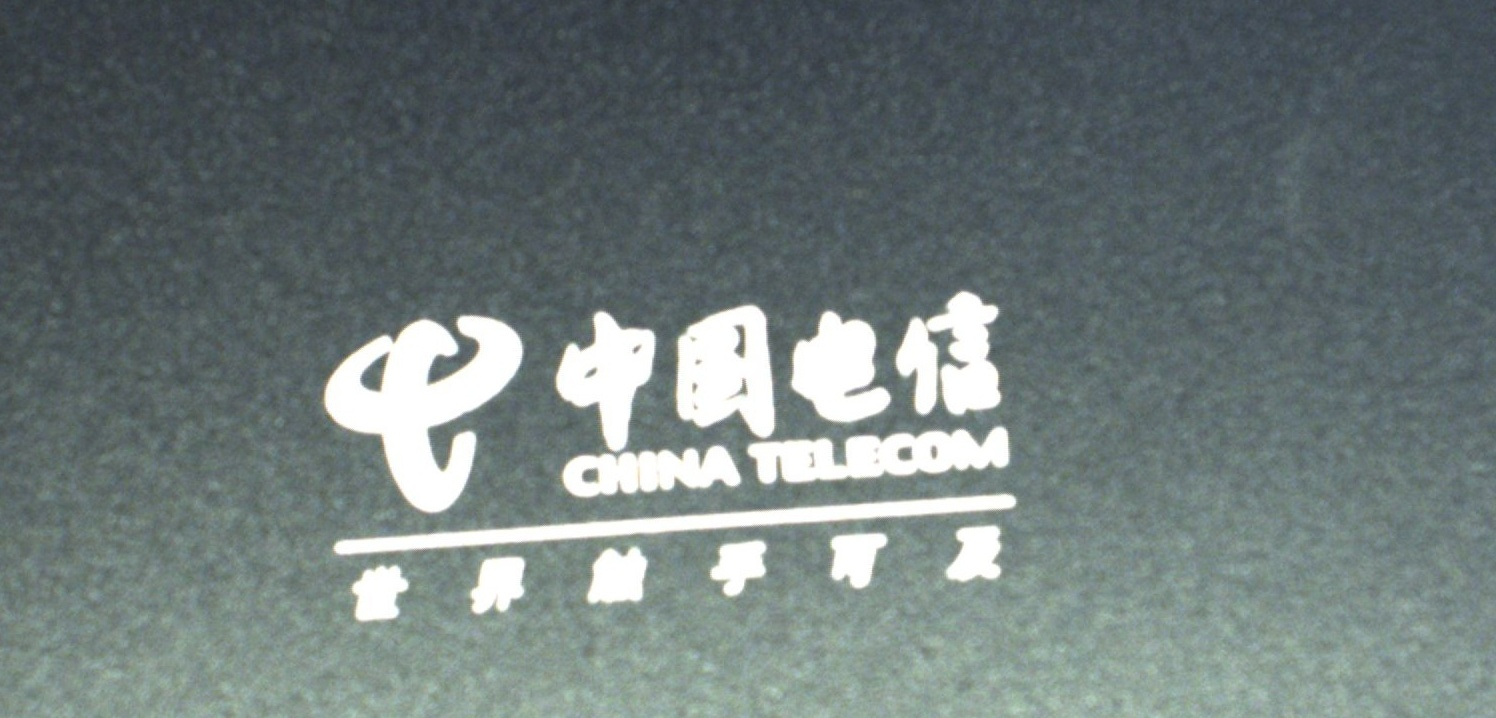AB_ChinaTelecom: (316, 284, 1025, 623)
